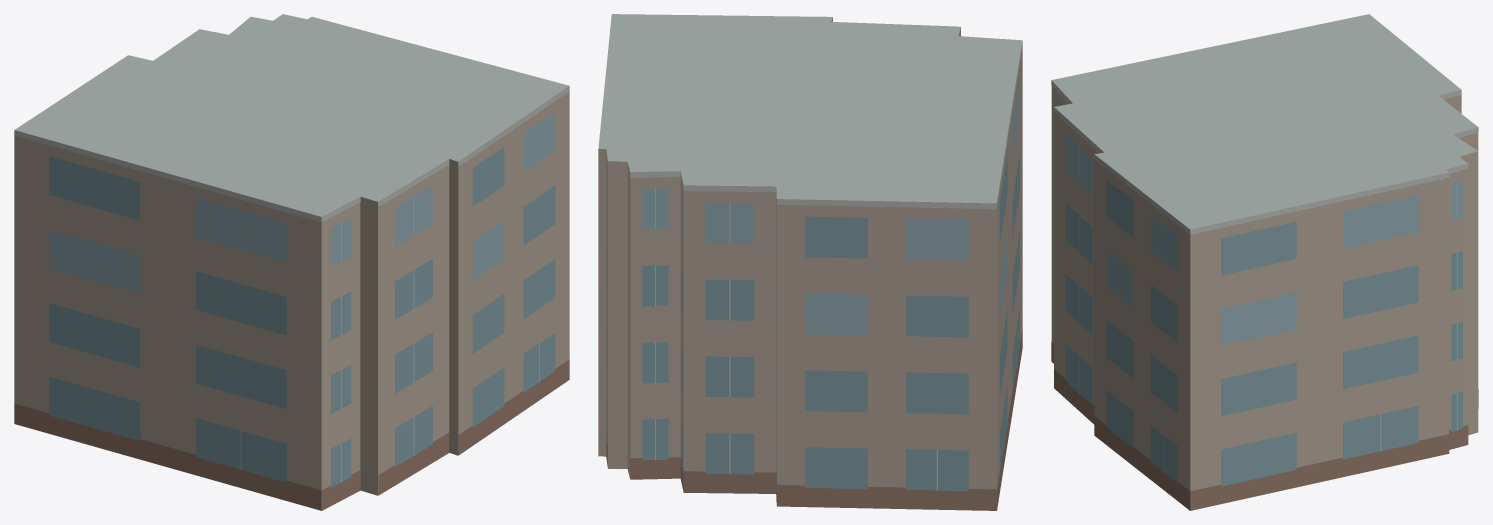
File: survey-upis-32604167.glb
3 views of the same model, side by side, from view 1: azimuth 30°, elevation 25°; view 2: azimuth 150°, elevation 25°; view 3: azimuth 270°, elevation 25° (orthographic). The views are drawn at different scales.
Parts seen in each view (by area): view 1: survey-upis-32604167.tmp; view 2: survey-upis-32604167.tmp; view 3: survey-upis-32604167.tmp.
Part boxes in pixels (x1,y1,x2,y2): survey-upis-32604167.tmp: [14, 14, 569, 510]; survey-upis-32604167.tmp: [598, 14, 1022, 510]; survey-upis-32604167.tmp: [1051, 14, 1478, 510].
Size of the model in its own units: 21.46 by 13.05 by 17.96.
